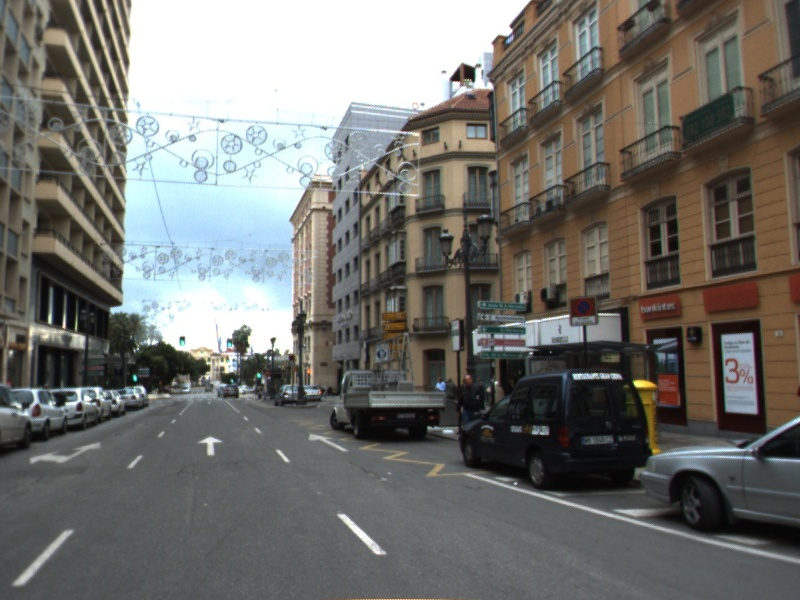STRAIGHT: (306, 431, 351, 453), (195, 434, 226, 458)
STRAIGHT_LEFT: (27, 440, 104, 467)
